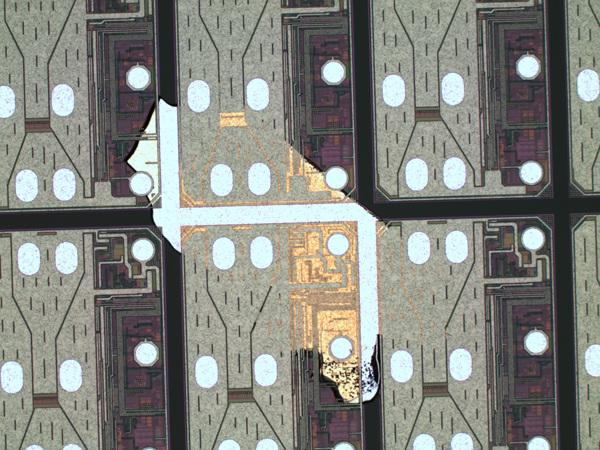BLOCK ETCH: (119, 82, 457, 418)
